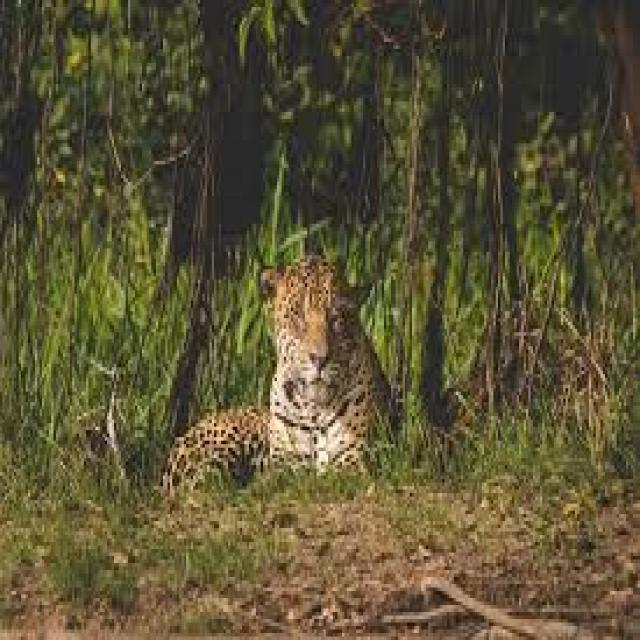Jaguar: (158, 248, 398, 504)
